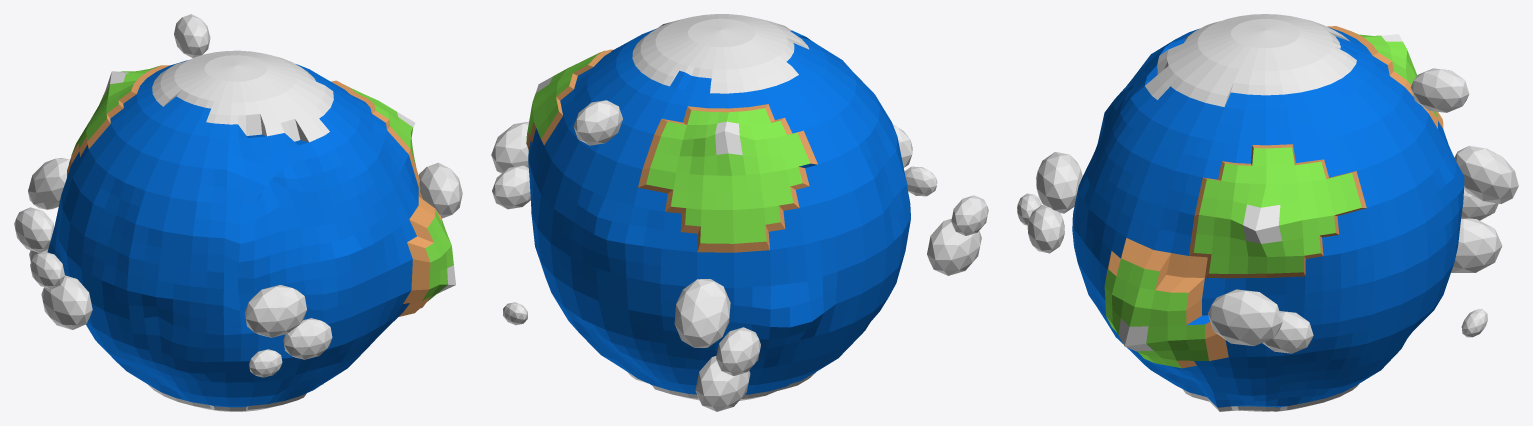
Rendered from earthFinal.glb.
3 renders of one model, left to right at view 1: azimuth 30°, elevation 25°; view 2: azimuth 150°, elevation 25°; view 3: azimuth 270°, elevation 25°, orthographic. The views are drawn at different scales.
Parts seen in each view (by area): view 1: Sphere, Icosphere.002, Icosphere.001, Icosphere.006, Icosphere.008, Icosphere.003, Icosphere.010, Icosphere.007, Icosphere, Icosphere.004; view 2: Sphere, Icosphere.008, Icosphere.001, Icosphere.011, Icosphere.007, Icosphere.010, Icosphere.006, Icosphere.005, Icosphere, Icosphere.004, Icosphere.009; view 3: Sphere, Icosphere.006, Icosphere.008, Icosphere.002, Icosphere.011, Icosphere.007, Icosphere.003, Icosphere.005, Icosphere.010, Icosphere.009, Icosphere.004.
Boxes of the visible parts, bbox=[...] form: Sphere: bbox=[47, 50, 455, 411]; Icosphere.002: bbox=[244, 285, 306, 337]; Icosphere.001: bbox=[41, 275, 92, 329]; Icosphere.006: bbox=[418, 162, 462, 218]; Icosphere.008: bbox=[28, 158, 69, 209]; Icosphere.003: bbox=[283, 318, 332, 359]; Icosphere.010: bbox=[14, 207, 54, 252]; Icosphere.007: bbox=[174, 14, 210, 57]; Icosphere: bbox=[30, 251, 64, 289]; Icosphere.004: bbox=[249, 349, 282, 377]; Sphere: bbox=[526, 14, 910, 400]; Icosphere.008: bbox=[674, 279, 730, 347]; Icosphere.001: bbox=[927, 218, 981, 275]; Icosphere.011: bbox=[695, 356, 750, 411]; Icosphere.007: bbox=[573, 100, 622, 145]; Icosphere.010: bbox=[716, 327, 760, 376]; Icosphere.006: bbox=[491, 121, 528, 173]; Icosphere.005: bbox=[492, 165, 530, 209]; Icosphere: bbox=[951, 195, 988, 235]; Icosphere.004: bbox=[904, 166, 937, 196]; Icosphere.009: bbox=[503, 302, 527, 325]; Sphere: bbox=[1072, 14, 1464, 411]; Icosphere.006: bbox=[1208, 289, 1282, 346]; Icosphere.008: bbox=[1454, 145, 1518, 203]; Icosphere.002: bbox=[1036, 152, 1082, 213]; Icosphere.011: bbox=[1451, 218, 1502, 272]; Icosphere.007: bbox=[1410, 68, 1469, 112]; Icosphere.003: bbox=[1027, 204, 1064, 253]; Icosphere.005: bbox=[1262, 311, 1313, 353]; Icosphere.010: bbox=[1461, 189, 1498, 220]; Icosphere.009: bbox=[1461, 309, 1487, 337]; Icosphere.004: bbox=[1017, 193, 1041, 225].
Bounding box in the file's own units: 14.31 × 10.35 × 12.92.
